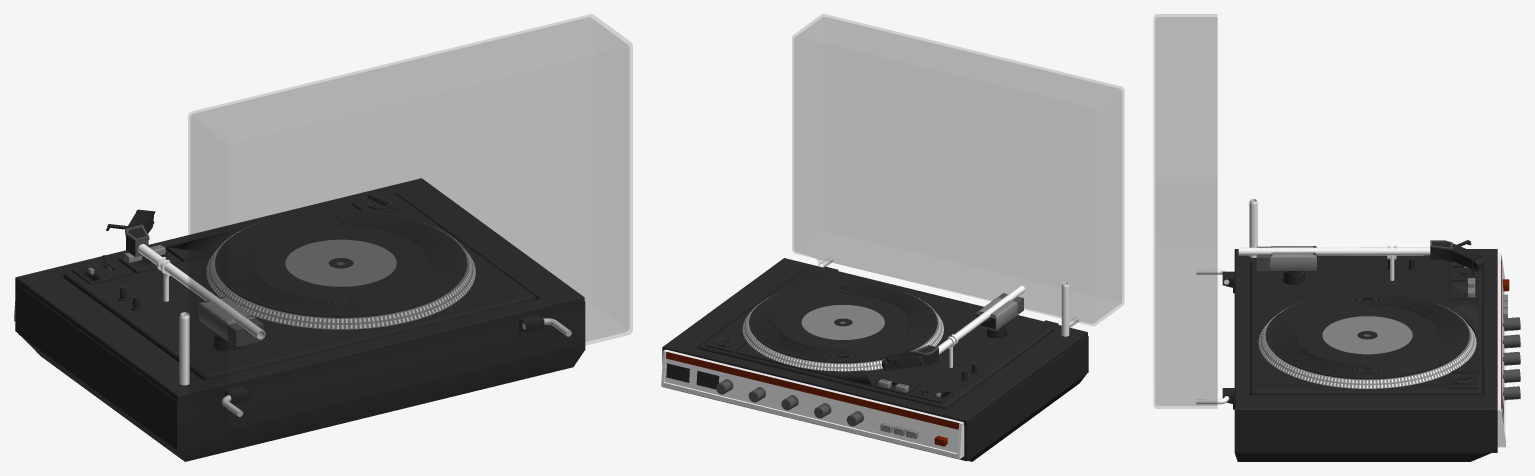
File: Classic Record Player.obj
The picture shows the model from 3 angles, left to right: view 1: azimuth 30°, elevation 25°; view 2: azimuth 150°, elevation 25°; view 3: azimuth 270°, elevation 25°; orthographic projection. The views are drawn at different scales.
Visible parts, largest first — view 1: Cover, Body_1, Disk, Disk_Table, Bed_Disk, Base, Neck, Head, ?, Body; view 2: Cover, Body_1, Disk, Disk_Table, Frontal_Part/Visor, Bed_Disk, Head, Base, Neck, ?; view 3: Cover, Body_1, Disk, Disk_Table, Bed_Disk, Neck, Frontal_Part/Visor, Base, Head, ?, Sweep, Body.
Part boxes in pixels (x1=…): Cover: x1=188, y1=14, x2=632, y2=431; Body_1: x1=15, y1=178, x2=585, y2=461; Disk: x1=215, y1=210, x2=467, y2=316; Disk_Table: x1=63, y1=192, x2=535, y2=380; Bed_Disk: x1=206, y1=232, x2=475, y2=329; Base: x1=199, y1=296, x2=263, y2=347; Neck: x1=138, y1=244, x2=265, y2=339; Head: x1=106, y1=209, x2=155, y2=256; ?: x1=179, y1=312, x2=189, y2=385; Body: x1=224, y1=314, x2=544, y2=408; Cover: x1=792, y1=14, x2=1123, y2=327; Body_1: x1=662, y1=258, x2=1088, y2=461; Disk: x1=749, y1=282, x2=937, y2=362; Disk_Table: x1=699, y1=268, x2=1051, y2=409; Frontal_Part/Visor: x1=661, y1=349, x2=964, y2=459; Bed_Disk: x1=742, y1=296, x2=943, y2=371; Head: x1=882, y1=345, x2=938, y2=370; Base: x1=975, y1=293, x2=1023, y2=330; Neck: x1=937, y1=285, x2=1025, y2=354; ?: x1=1061, y1=282, x2=1069, y2=336; Cover: x1=1154, y1=14, x2=1217, y2=408; Body_1: x1=1234, y1=249, x2=1497, y2=461; Disk: x1=1265, y1=292, x2=1469, y2=378; Disk_Table: x1=1250, y1=261, x2=1481, y2=395; Bed_Disk: x1=1258, y1=310, x2=1476, y2=388; Neck: x1=1238, y1=247, x2=1430, y2=255; Frontal_Part/Visor: x1=1497, y1=253, x2=1505, y2=447; Base: x1=1256, y1=246, x2=1316, y2=271; Head: x1=1430, y1=240, x2=1484, y2=271; ?: x1=1249, y1=199, x2=1257, y2=257; Sweep: x1=1196, y1=269, x2=1229, y2=404; Body: x1=1222, y1=271, x2=1234, y2=409.
Size of the model in its own units: 46.71 by 40.09 by 44.98.
